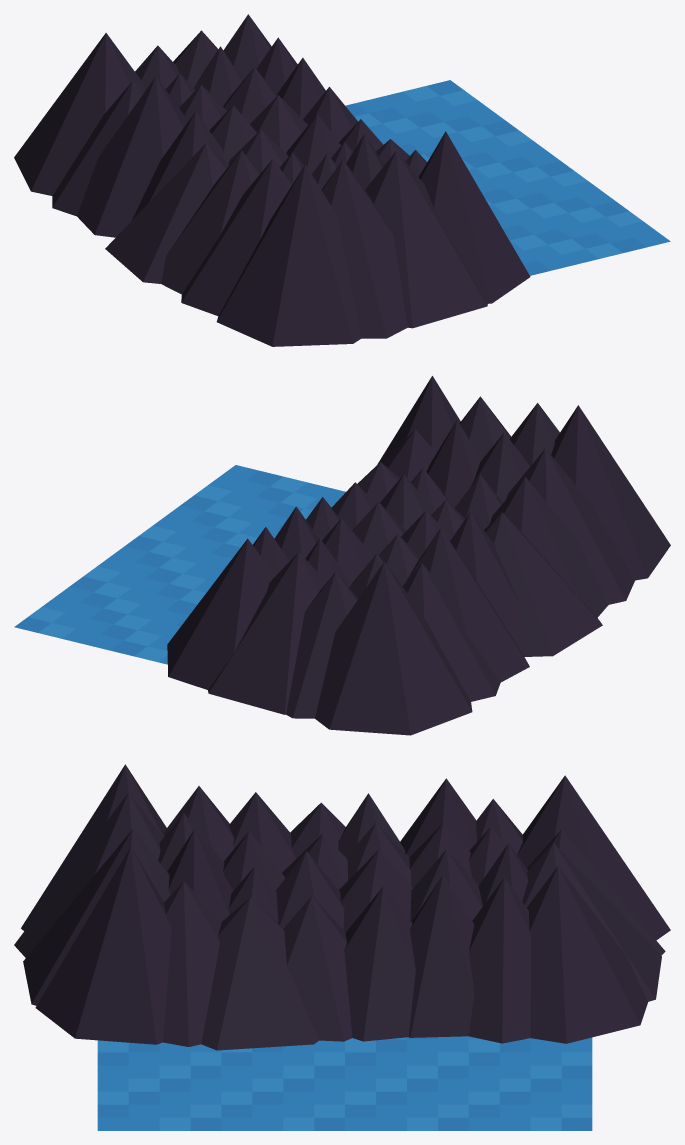
Rendered from chunk_3_24.glb.
3 renders of one model, top to bottom at view 1: azimuth 30°, elevation 25°; view 2: azimuth 150°, elevation 25°; view 3: azimuth 270°, elevation 25°, orthographic. The views are drawn at different scales.
Parts seen in each view (by area): view 1: chunk_3_24; view 2: chunk_3_24; view 3: chunk_3_24.
Boxes of the visible parts, box(x1,y1,x2,y2) form: chunk_3_24: box(14, 14, 670, 346); chunk_3_24: box(14, 376, 670, 735); chunk_3_24: box(14, 764, 670, 1130).
Bounding box in the file's own units: 18.7 × 6.19 × 21.25.
